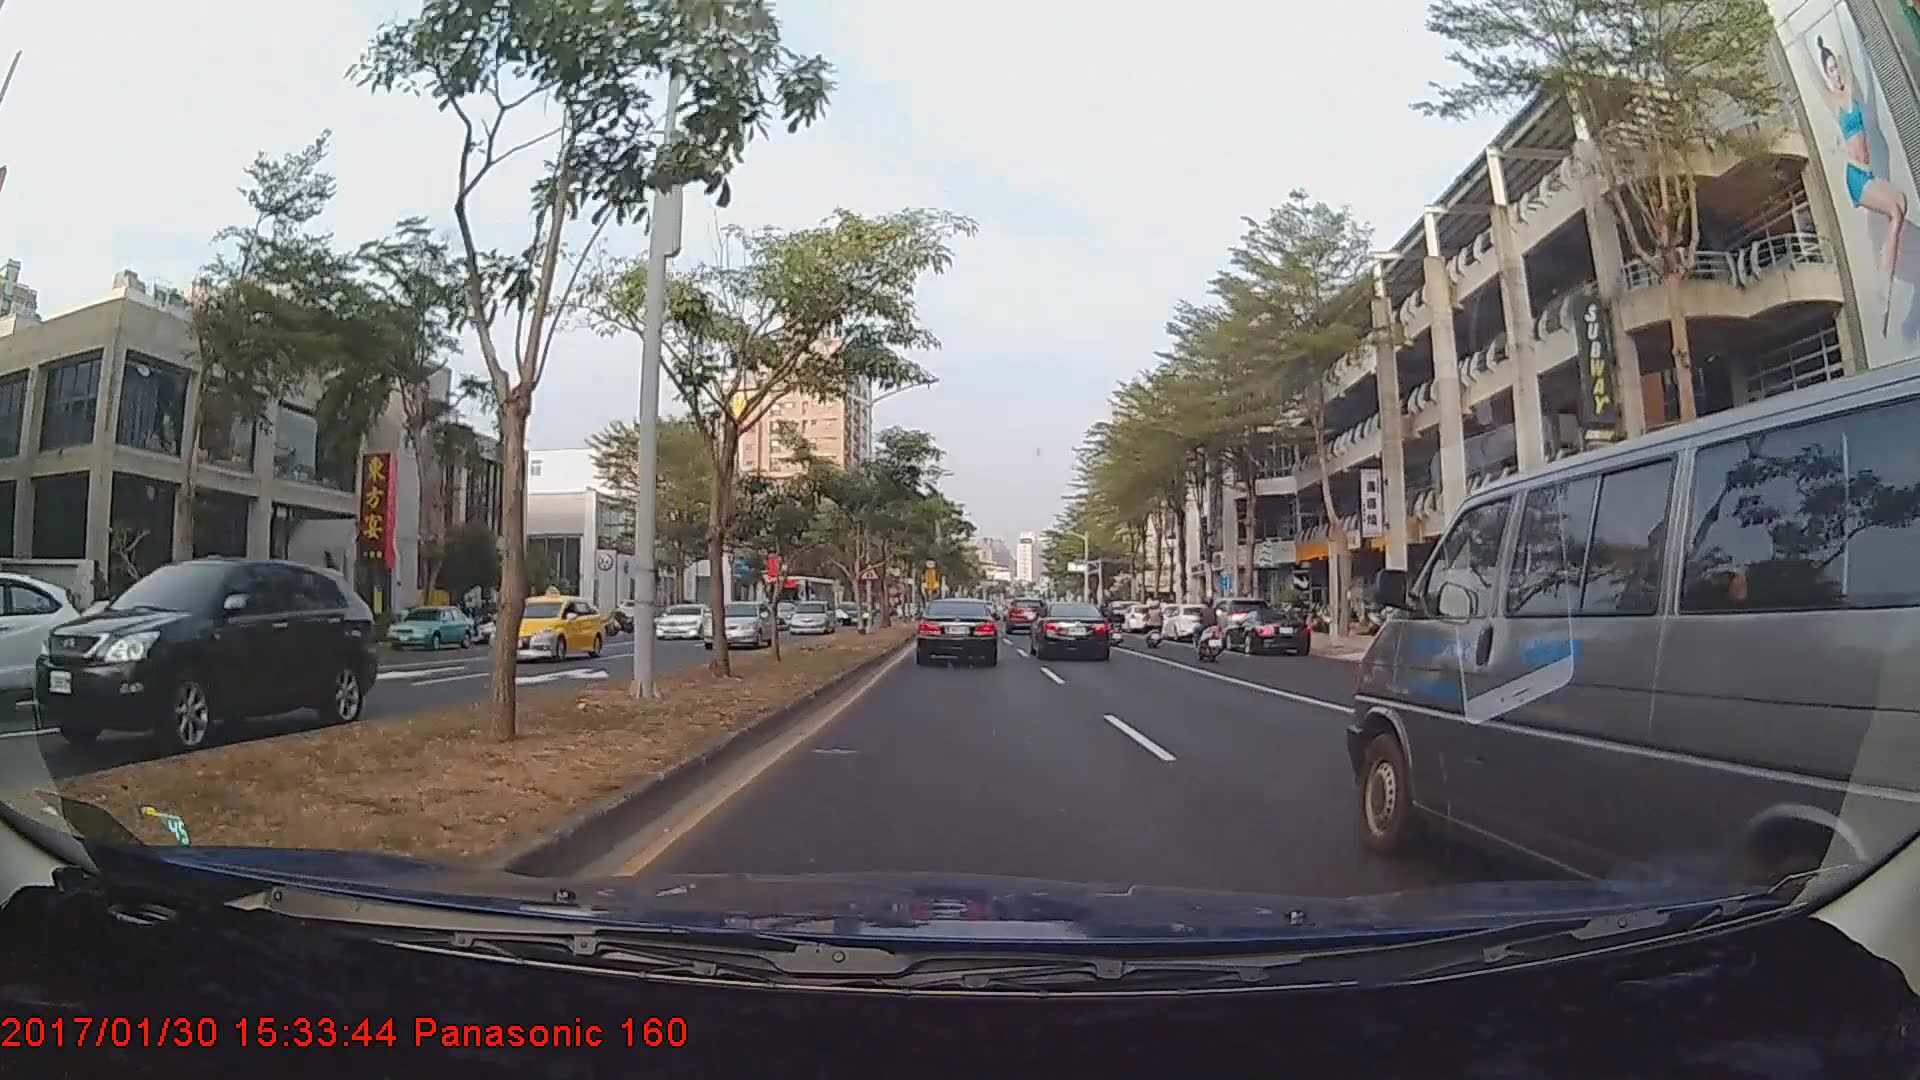rider: (1189, 592, 1234, 664), (1141, 588, 1170, 645)
vehicle: (1342, 406, 1904, 907), (32, 559, 377, 755), (1, 567, 84, 726), (489, 593, 602, 664), (917, 597, 999, 668), (1031, 602, 1110, 661), (763, 573, 838, 629), (1224, 606, 1309, 654), (1197, 595, 1271, 647), (701, 597, 775, 648), (656, 601, 713, 642), (1159, 602, 1216, 640), (789, 596, 835, 633), (1006, 592, 1046, 629), (839, 600, 871, 623)
